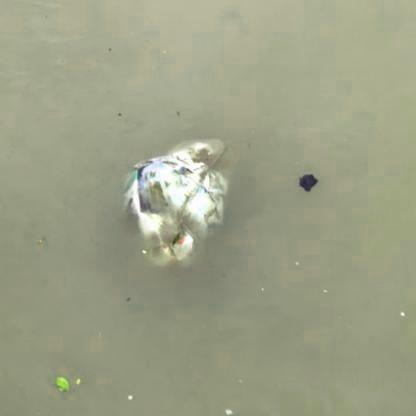Trash: (110, 127, 244, 278)
